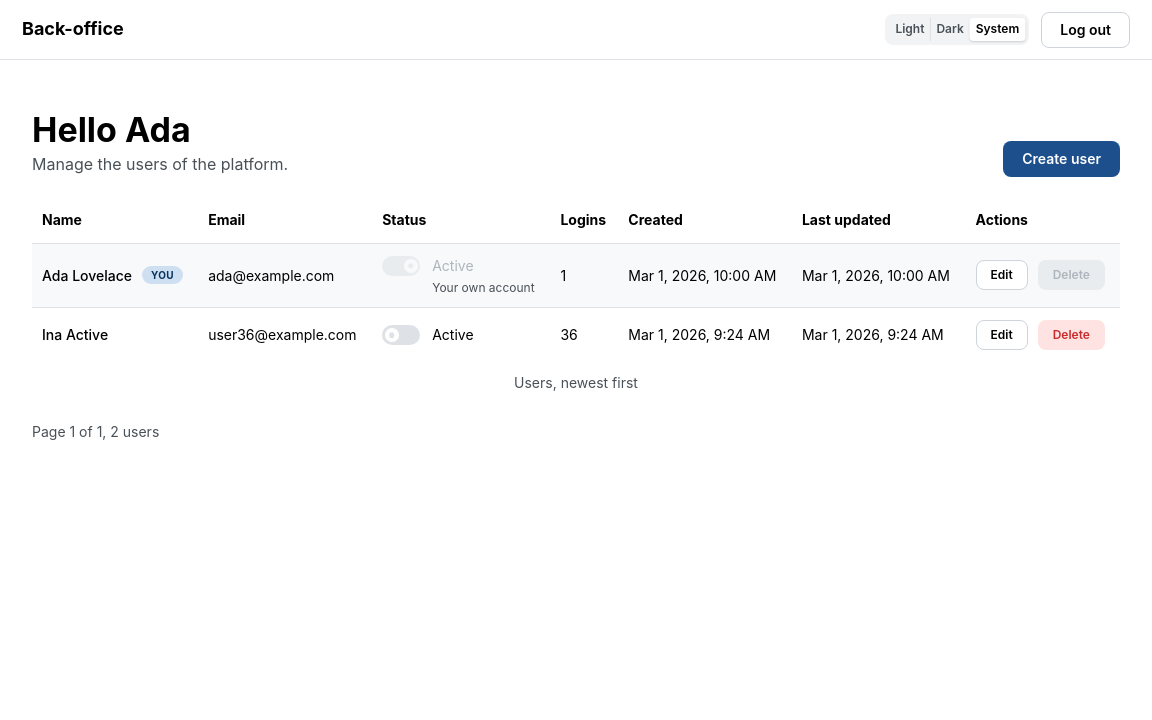
it: dashboard: create, edit, status, delete › DASH-31 locks the names of inactive users and explains why
Check: the table is shown, box 32,197 -> 1120,394
Click the button with aria-label "Edit Ina Active".
click(1002, 335)  # box 976,320 -> 1028,350
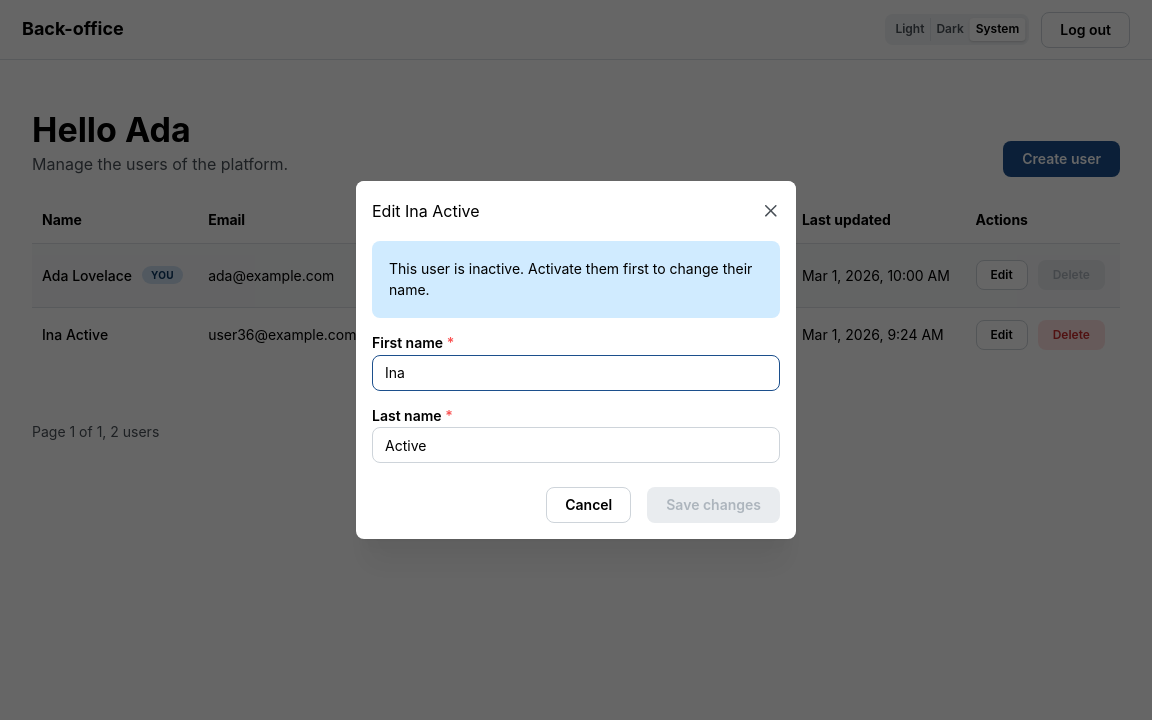
Check: the text "Activate them first" is shown, box 389,260 -> 752,298
Check: the button "Save changes" is disabled, box 647,488 -> 780,524
